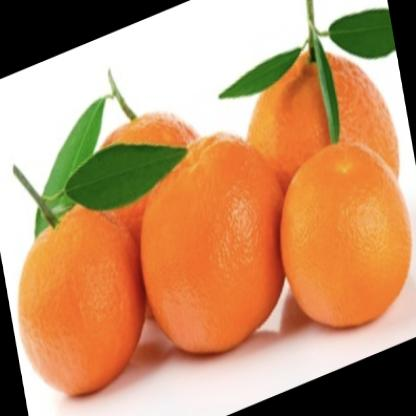fresh: (22, 34, 410, 416)
